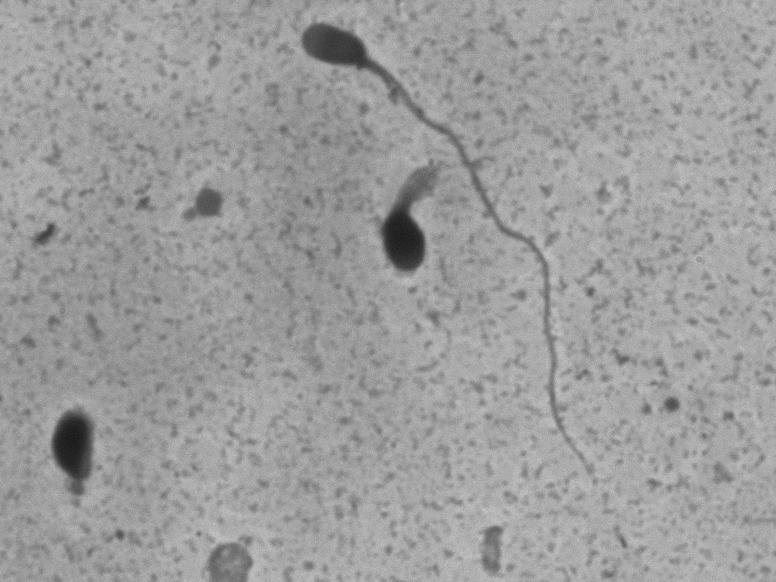Abnormal: (284, 10, 629, 524), (371, 143, 446, 302)
